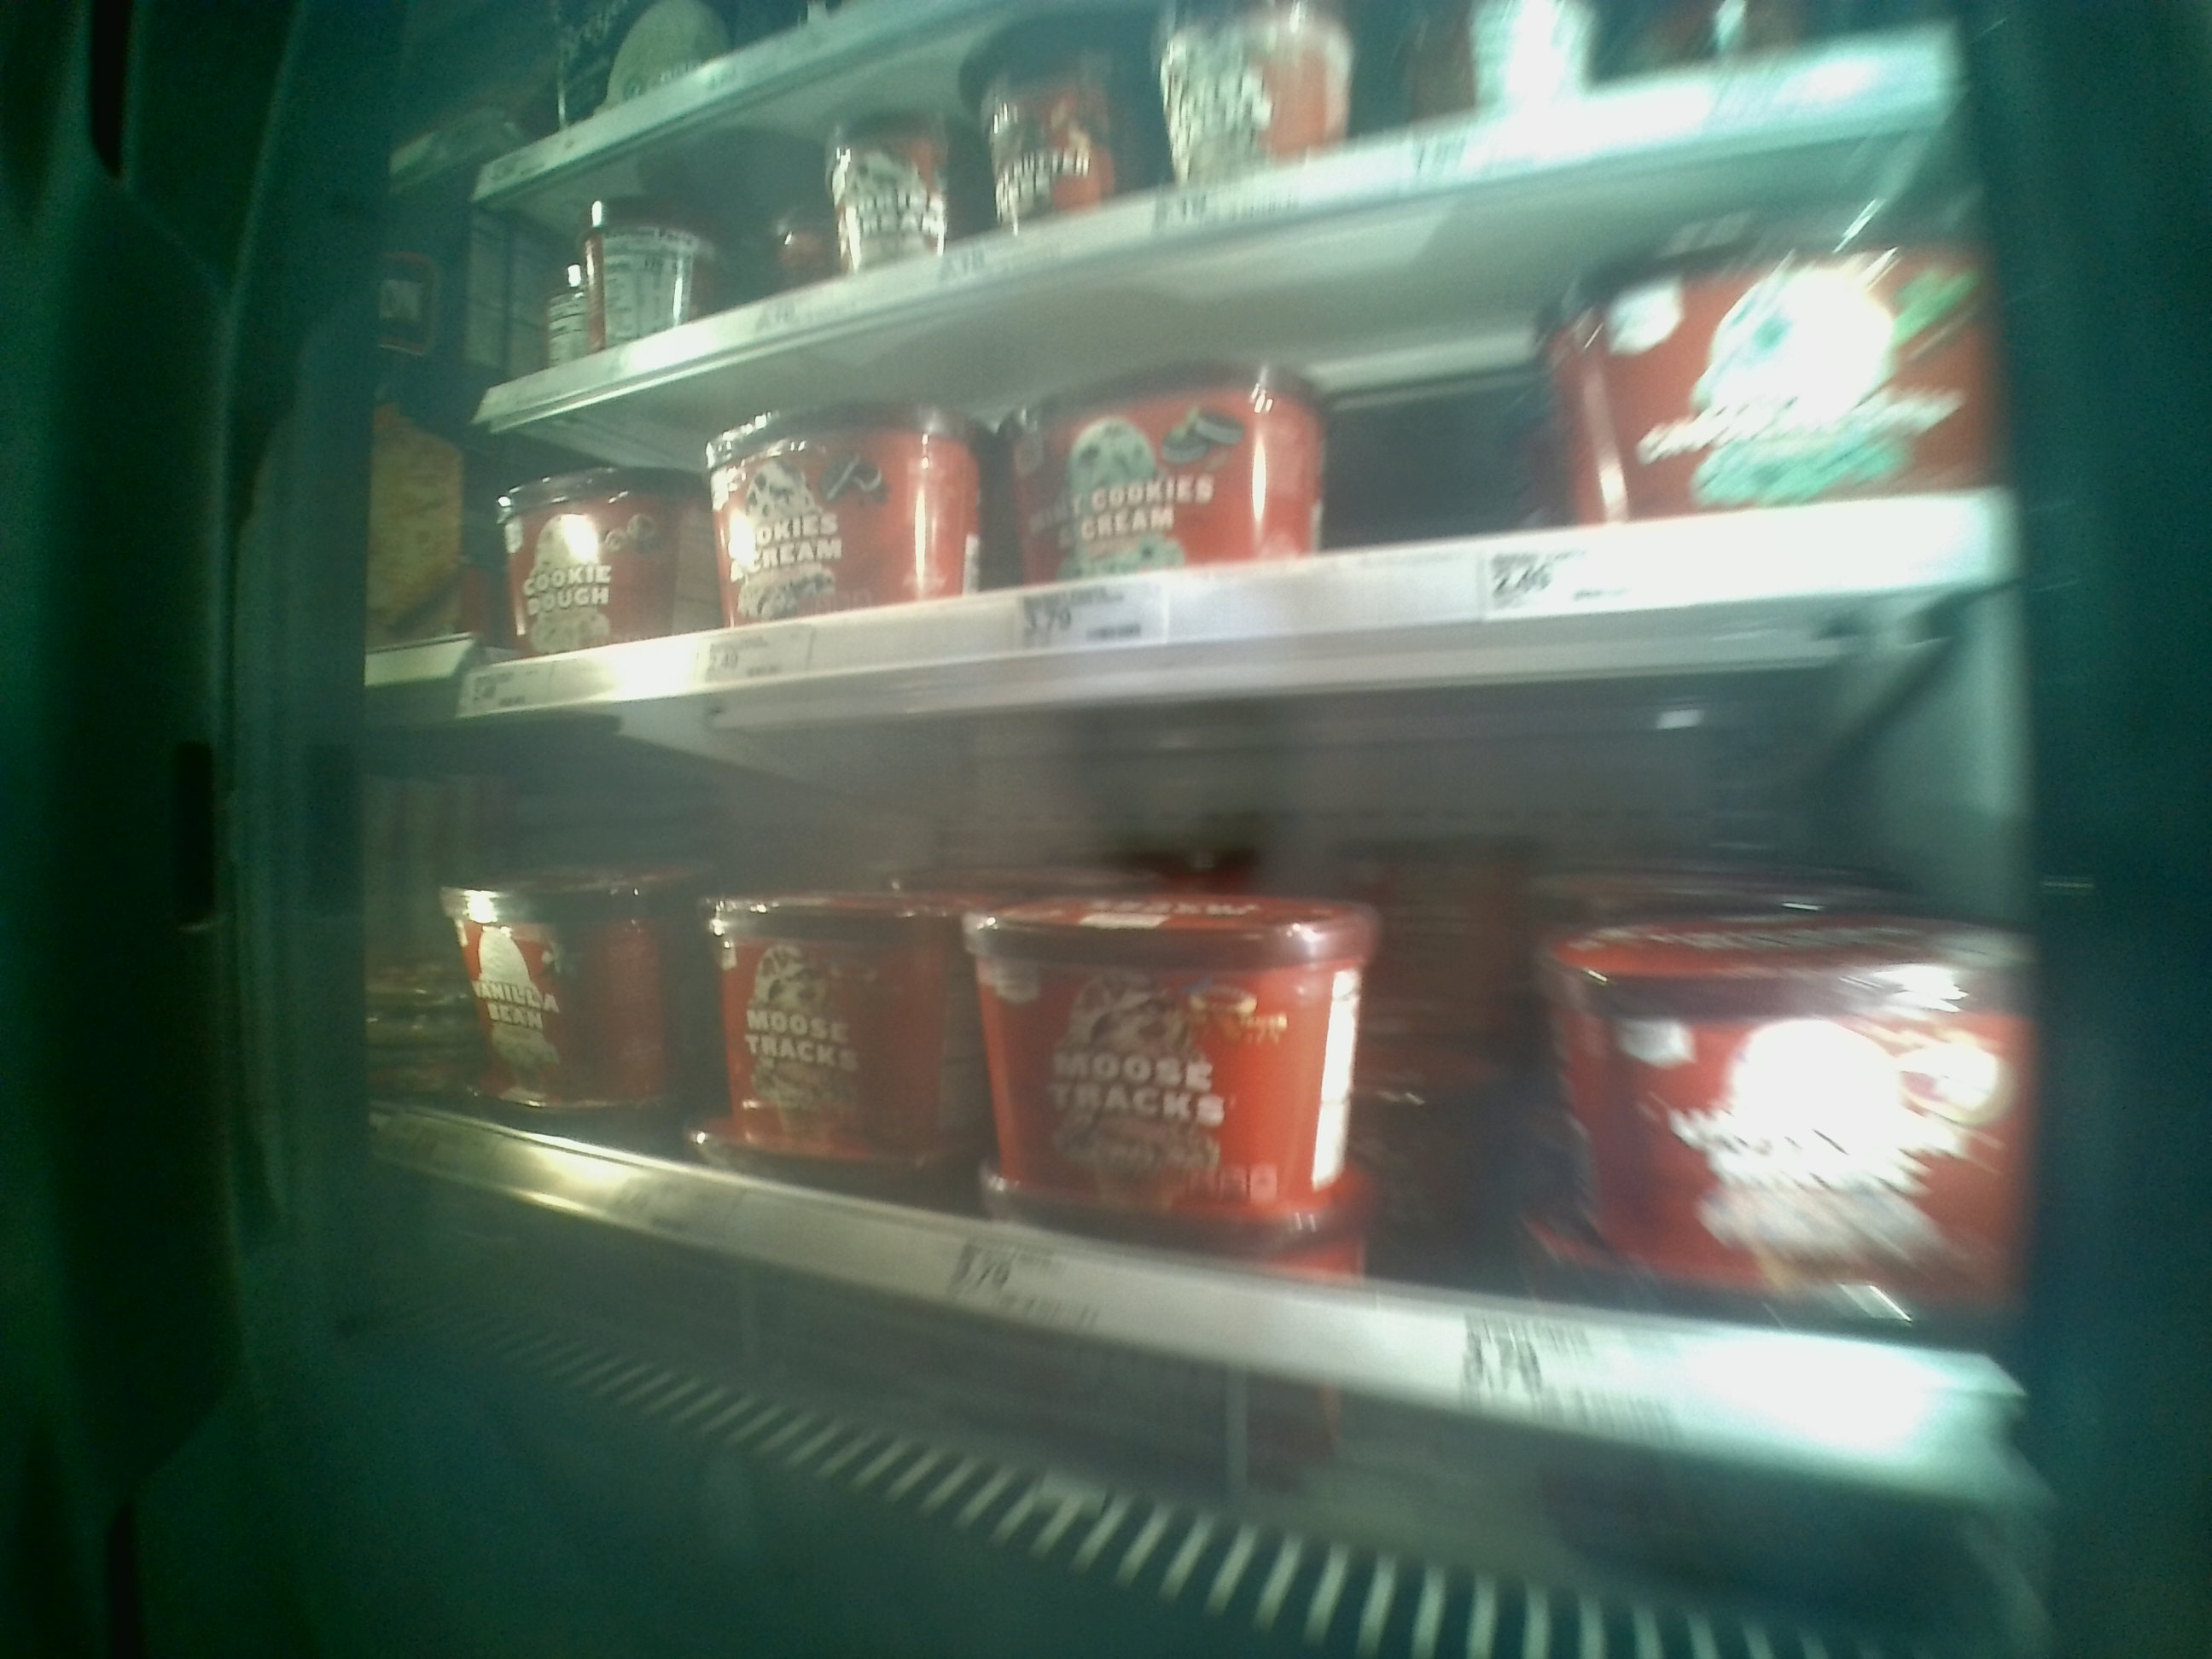shelf: (354, 591, 2022, 1422), (441, 91, 1996, 718)
